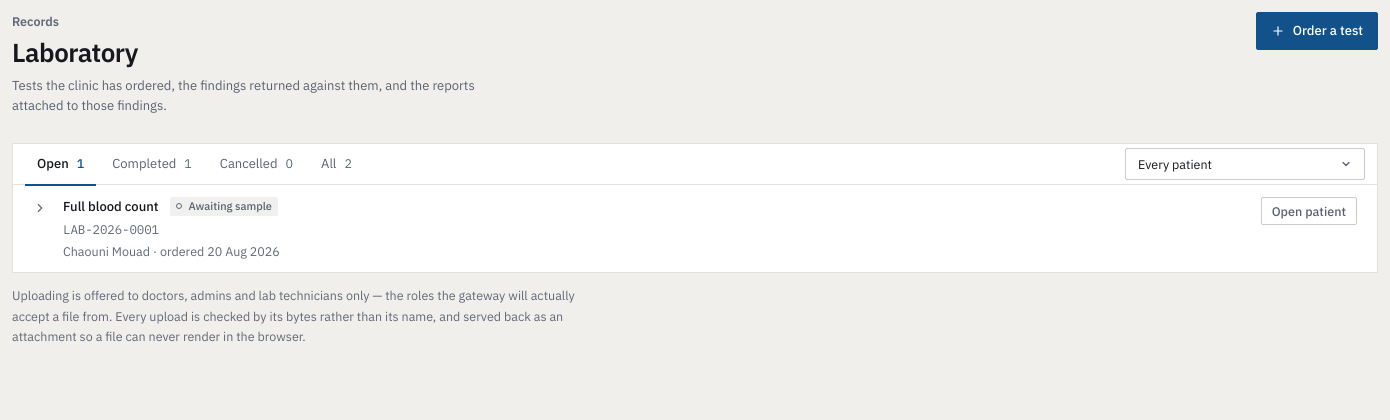
Scenario: inside an expanded request › offers a doctor the finding itself
Click the button "Full blood count": coordinates (111, 206) [33,196,1241,260]
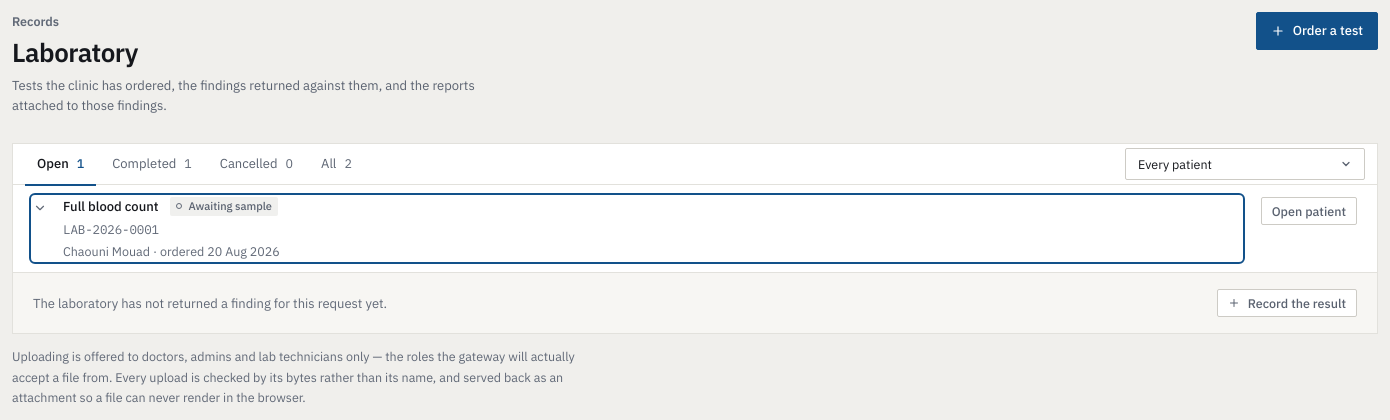
Now the button "Record the result" is shown, box [1217,289,1357,317]
